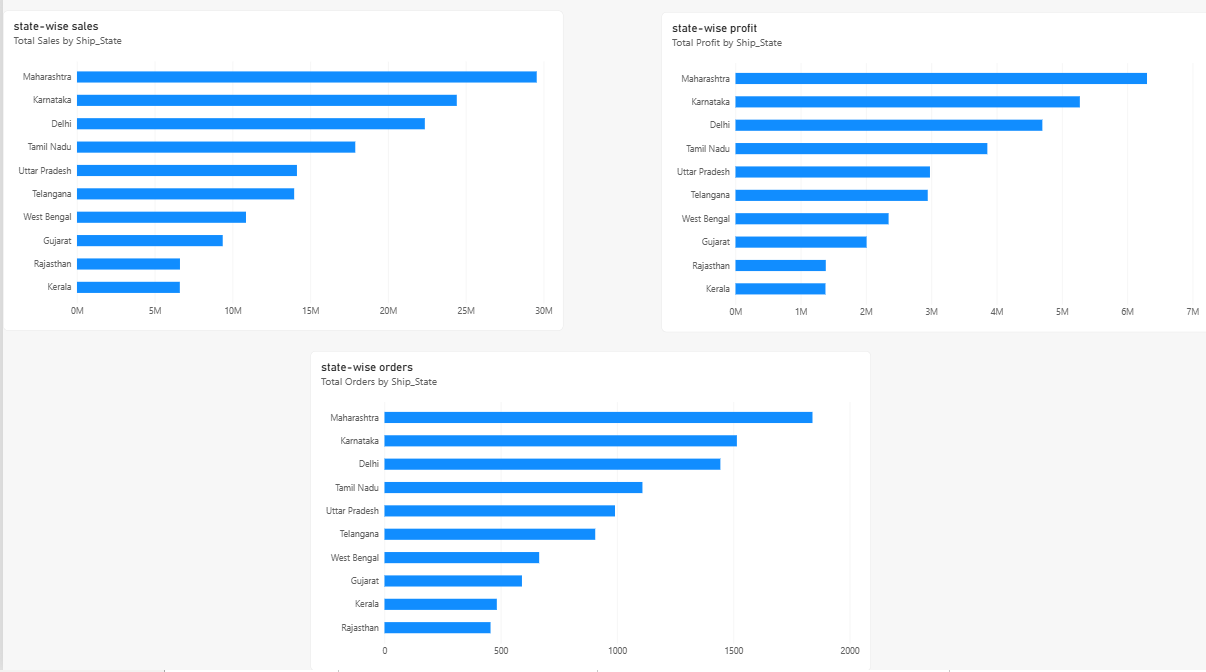

The dashboard page shown, as its layout file describes it:
{"tool":"powerbi","page":{"name":"geographical performance ","canvas":[1920,1080],"ordinal":3},"visuals":[{"type":"clusteredBarChart","title":"state-wise sales ","fields":{"Category":["Sheet1.Ship_State"],"Y":["Sheet1.Total Sales"]},"box":[0,31,891.3,509.3],"z":0},{"type":"clusteredBarChart","title":"state-wise profit ","fields":{"Category":["Sheet1.Ship_State"],"Y":["Sheet1.Total Profit"]},"box":[1047.4,33.4,873.1,509.3],"z":1},{"type":"clusteredBarChart","title":"state-wise orders ","fields":{"Category":["Sheet1.Ship_State"],"Y":["Sheet1.Total Orders"]},"box":[489.1,572.6,891,509],"z":2}]}

Visuals, with their boxes in screenshot pixels (x1, y1, x2, y2), scaled from the page's 1920x1080 canvas onto the 1206x672 screenshot:
"state-wise sales " clusteredBarChart: <region>0, 19, 560, 336</region>
"state-wise profit " clusteredBarChart: <region>658, 21, 1205, 338</region>
"state-wise orders " clusteredBarChart: <region>307, 356, 867, 671</region>
